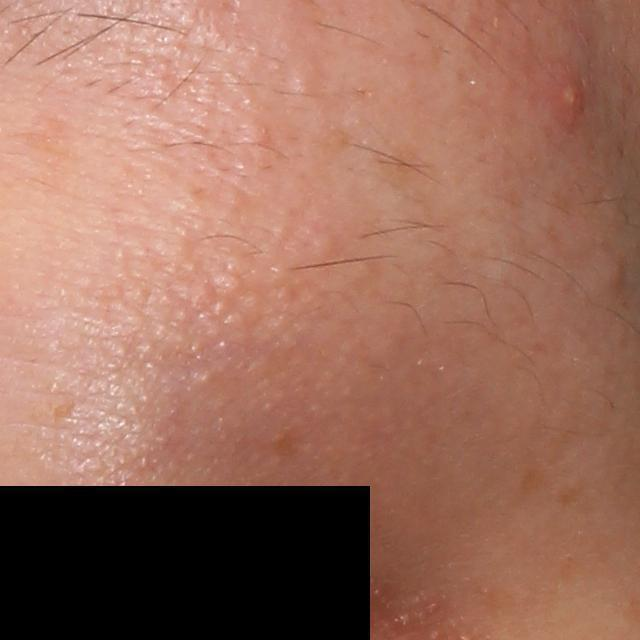comedo: (595, 257, 631, 295)
melasma: (377, 140, 440, 199), (516, 465, 562, 503), (262, 426, 305, 462), (549, 485, 588, 509)
other: (203, 270, 244, 298), (238, 289, 265, 318), (126, 282, 152, 305), (211, 297, 234, 320), (213, 339, 232, 355)
pustule: (548, 73, 584, 120)
